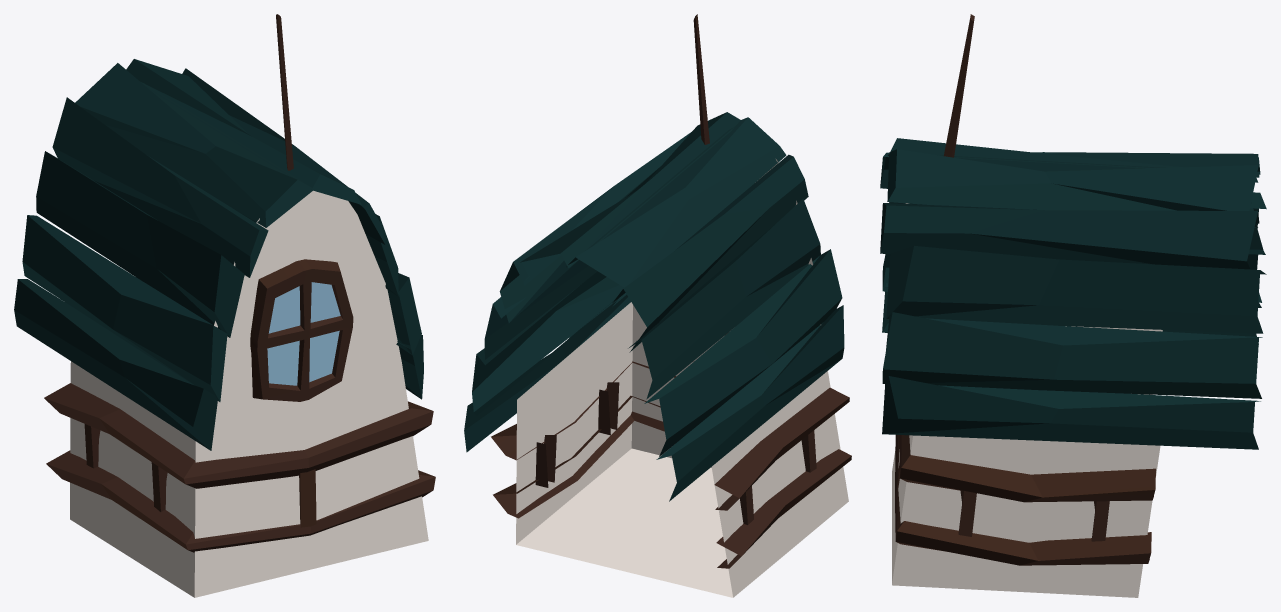
The model's file is SM_L_Modular_Windowpopup_Round_1.fbx.
3 renders of one model, left to right at view 1: azimuth 30°, elevation 25°; view 2: azimuth 150°, elevation 25°; view 3: azimuth 270°, elevation 25°, orthographic. The views are drawn at different scales.
Parts seen in each view (by area): view 1: SM_Window_Popup_curve; view 2: SM_Window_Popup_curve; view 3: SM_Window_Popup_curve.
Boxes of the visible parts, x1=… form: SM_Window_Popup_curve: x1=14, y1=14, x2=435, y2=597; SM_Window_Popup_curve: x1=464, y1=14, x2=851, y2=597; SM_Window_Popup_curve: x1=880, y1=14, x2=1266, y2=597.
Size of the model in its own units: 192 by 366 by 242.
